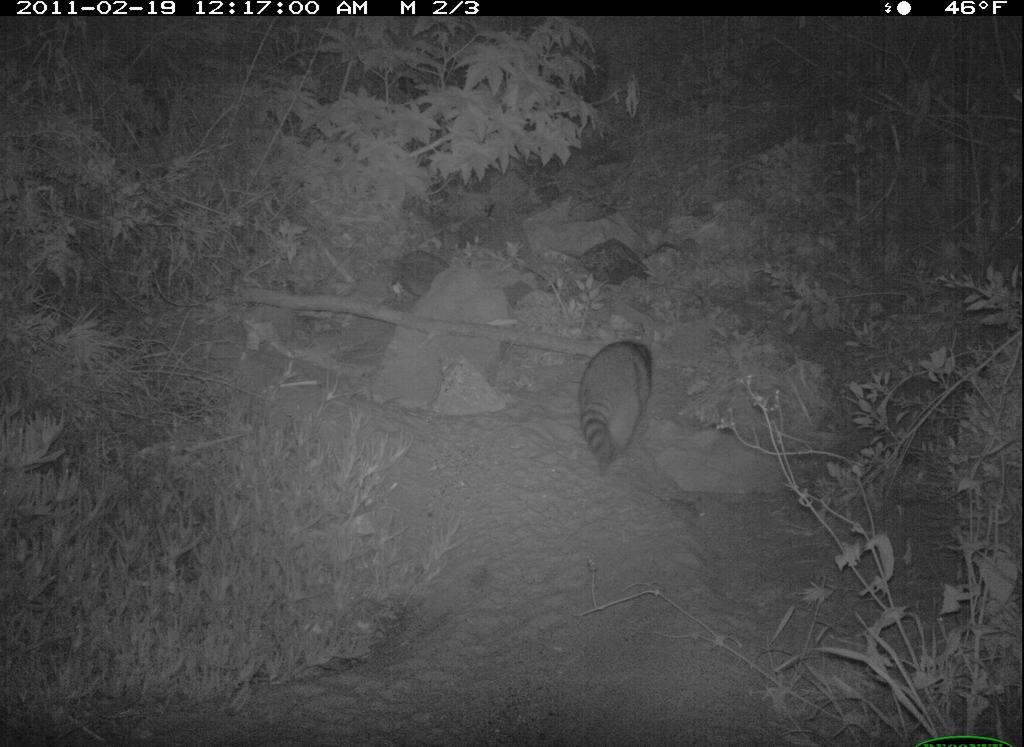raccoon: (580, 326, 669, 488)
